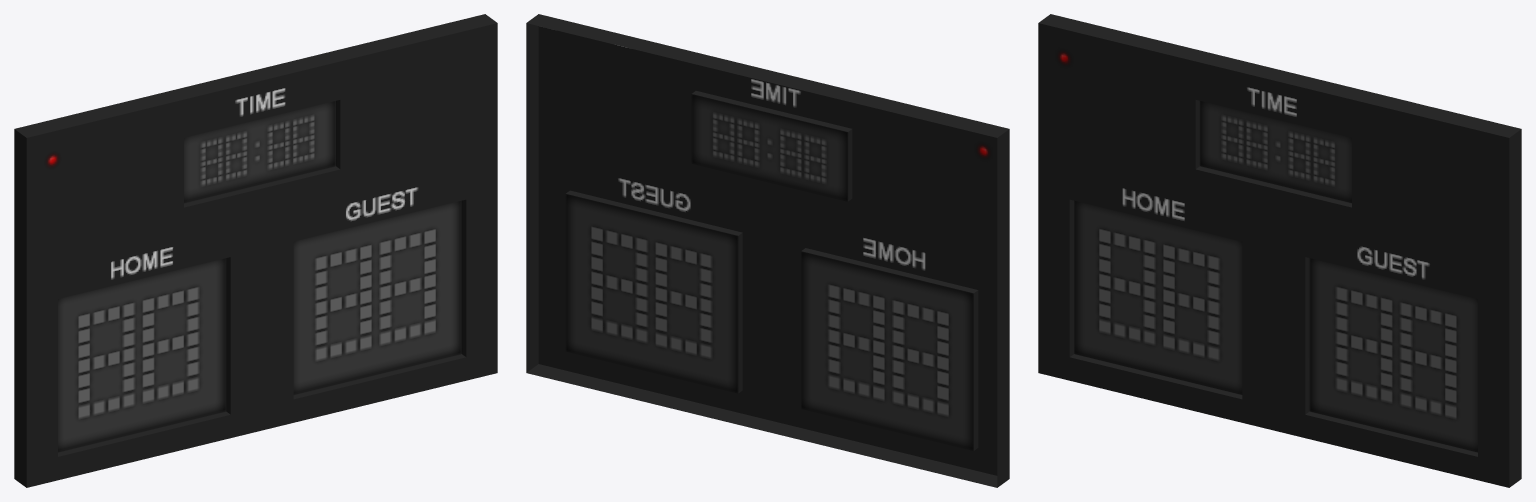
Rendered from lowpolyscoreboard.fbx.
The picture shows the model from 3 angles, left to right: view 1: azimuth 30°, elevation 25°; view 2: azimuth 150°, elevation 25°; view 3: azimuth 330°, elevation 25°; orthographic projection.
Visible parts, largest first — view 1: scorebord; view 2: scorebord; view 3: scorebord.
Boxes of the visible parts, x1=… form: scorebord: x1=14, y1=14, x2=497, y2=487; scorebord: x1=526, y1=14, x2=1009, y2=487; scorebord: x1=1038, y1=14, x2=1521, y2=487.
Size of the model in its own units: 7.71 by 5.47 by 0.3508.
